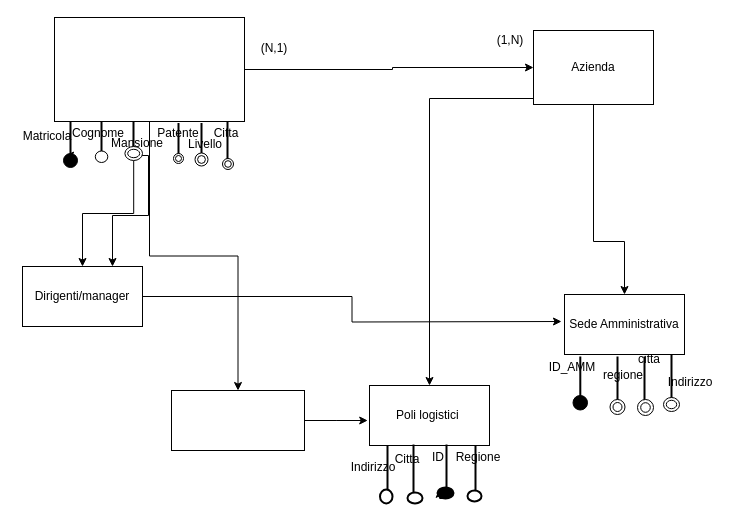
This 737x524 diagram has some shape labels left out. The centre of each missing label's shape, as x and y in pixels:
Dipendenti: (x=149, y=69)
Impiegati/Operai/Ispettori: (x=237, y=420)
